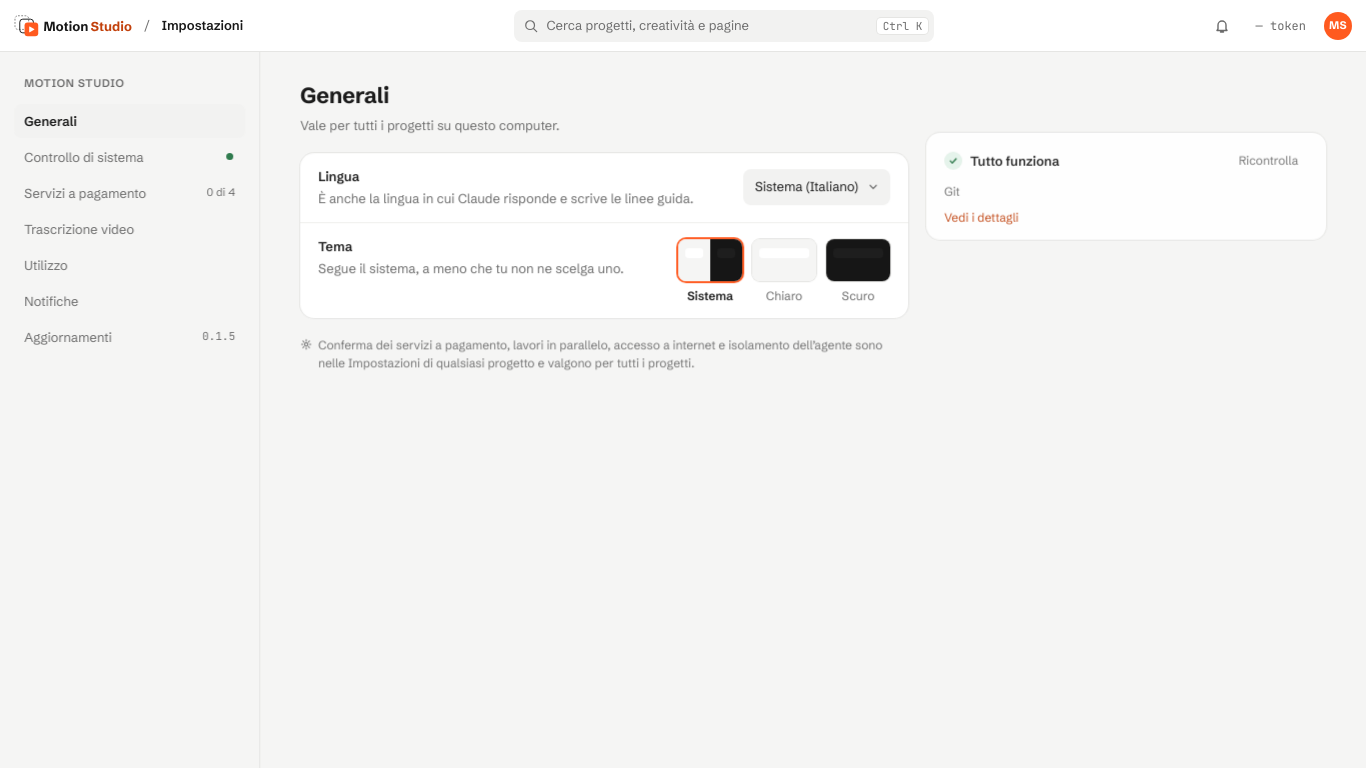
Test: App startup › shows an error when saving settings fails
The image size is (1366, 768).
// The theme moved from the top bar to Settings → General.
Click the radio button labelled "Scuro": (858, 272) [826, 239, 890, 304]
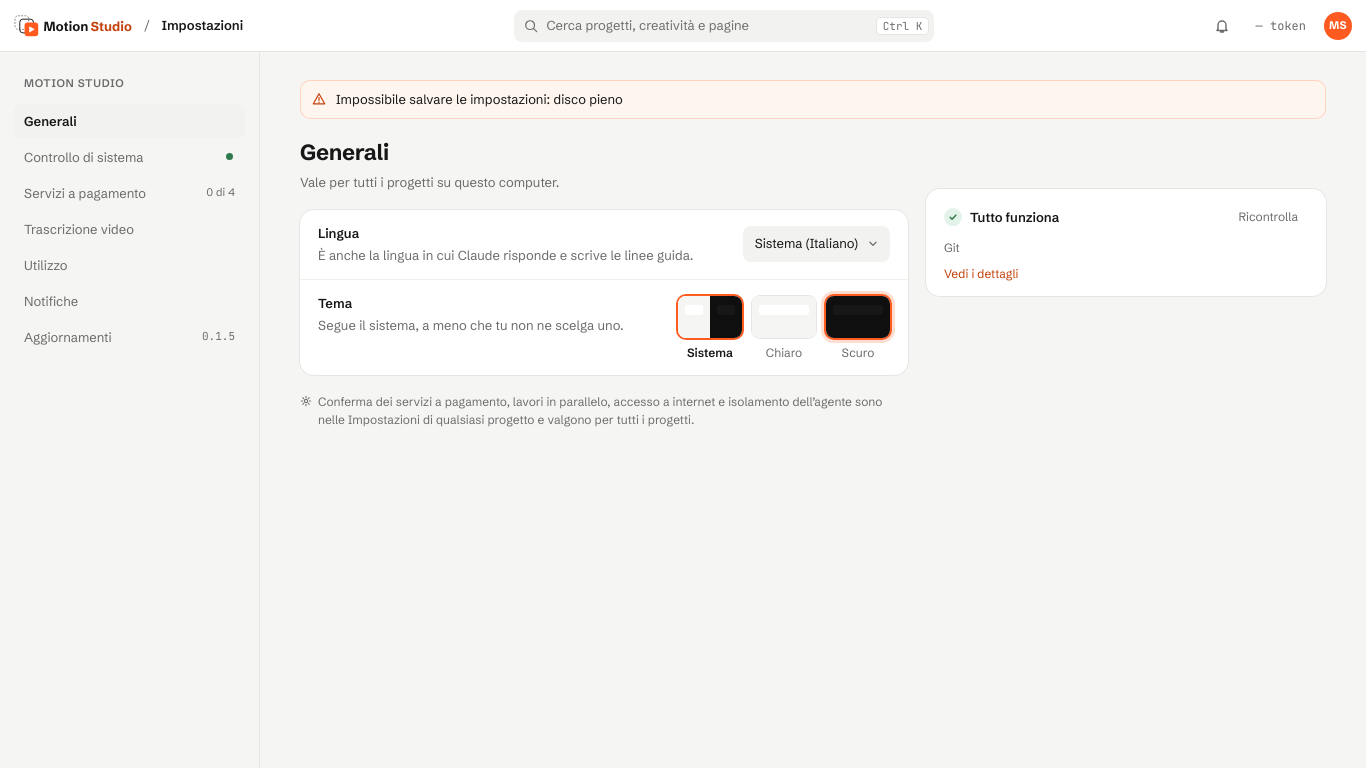
Check: the message reads "Impossibile salvare le impostazioni: disco pieno", box [336, 91, 623, 107]
